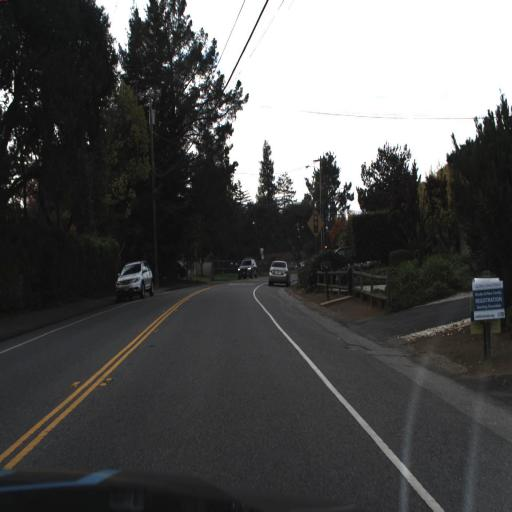car: (115, 258, 154, 300), (266, 257, 288, 283), (236, 255, 258, 278)
